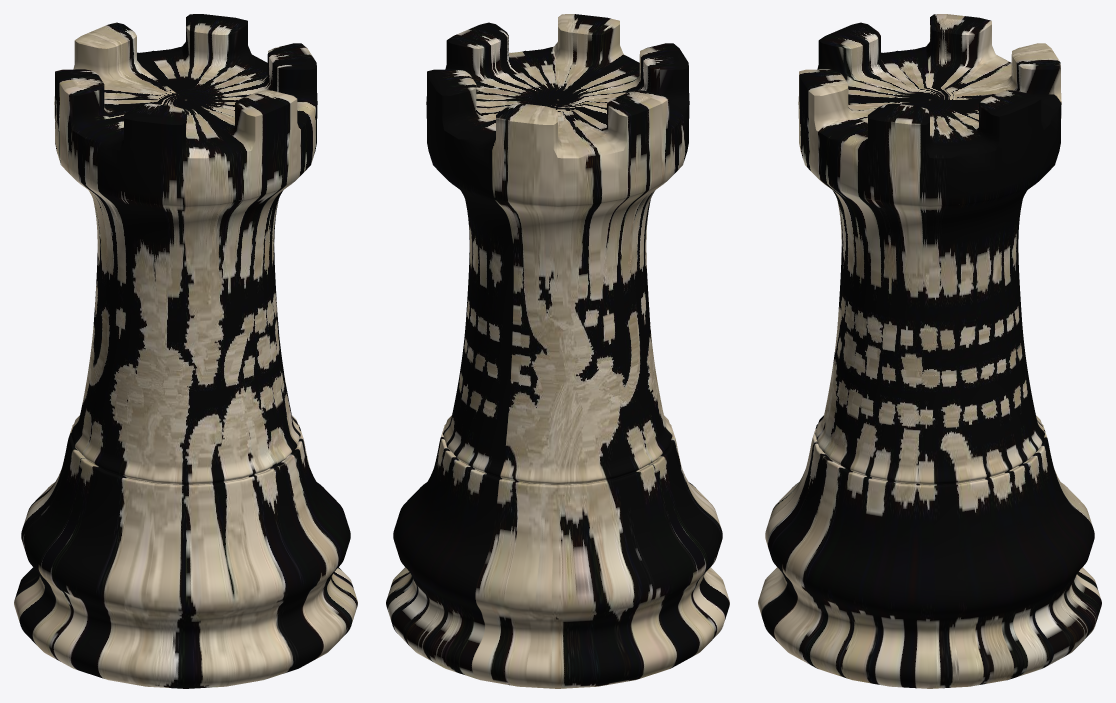
File: rook.obj
3 views of the same model, side by side, from view 1: azimuth 30°, elevation 25°; view 2: azimuth 150°, elevation 25°; view 3: azimuth 270°, elevation 25° (orthographic).
Visible parts, largest first — view 1: mesh01; view 2: mesh01; view 3: mesh01.
Part boxes in pixels (<box>): mesh01: <box>14,14,357,688</box>; mesh01: <box>386,14,729,688</box>; mesh01: <box>758,14,1101,688</box>.
Bounding box in the file's own units: 13.12 × 23.88 × 13.12.
Materials: 1 (1 with a texture image).
